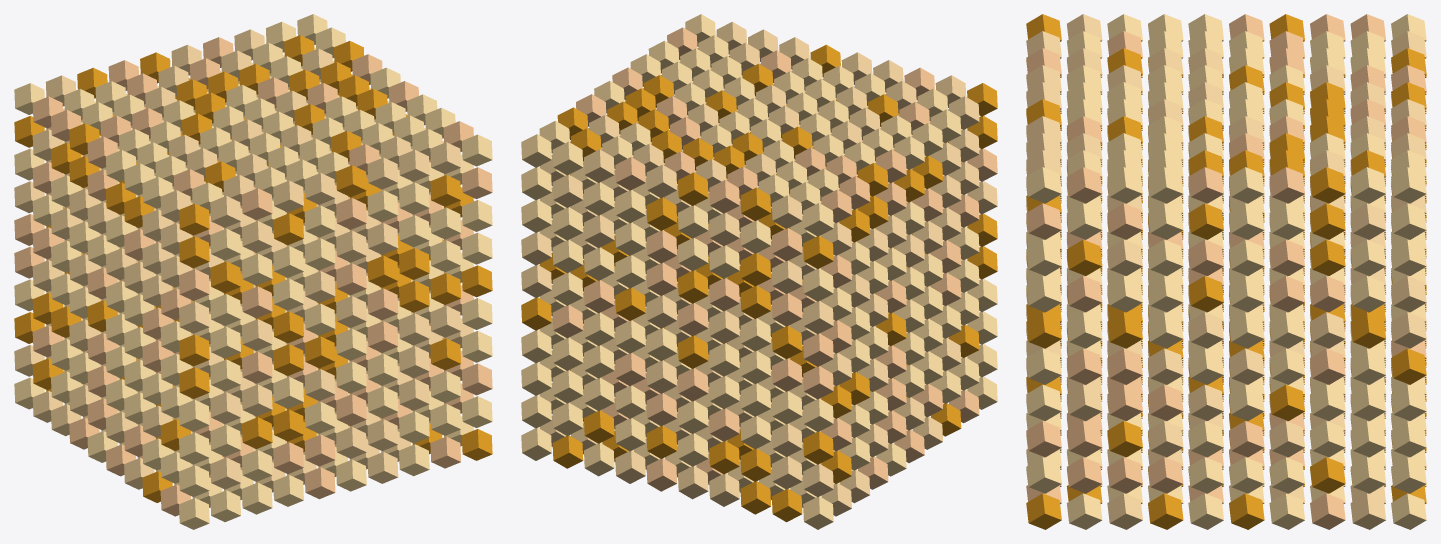
3 renders of one model, left to right at view 1: azimuth 30°, elevation 25°; view 2: azimuth 150°, elevation 25°; view 3: azimuth 270°, elevation 25°, orthographic. The views are drawn at different scales.
Visible parts, largest first — view 1: main_object.999, main_object.506, main_object.507, main_object.005, main_object.006, main_object.008, main_object.009, main_object.003, main_object.102, main_object.105, main_object.607, main_object.002 (+25 smaller); view 2: main_object.999, main_object.094, main_object.390, main_object.095, main_object.799, main_object.995, main_object.798, main_object.191, main_object.291, main_object.290, main_object.898, main_object.994 (+24 smaller); view 3: main_object.999, main_object.949, main_object.958, main_object.941, main_object.994, main_object.931, main_object.951, main_object.984, main_object.985, main_object.995, main_object.942, main_object.948 (+14 smaller).
Boxes of the visible parts, x1=… form: main_object.999: x1=14, y1=14, x2=492, y2=529; main_object.506: x1=336, y1=263, x2=366, y2=295; main_object.507: x1=336, y1=230, x2=366, y2=262; main_object.005: x1=179, y1=334, x2=209, y2=366; main_object.006: x1=179, y1=301, x2=209, y2=333; main_object.008: x1=179, y1=236, x2=209, y2=268; main_object.009: x1=179, y1=203, x2=209, y2=235; main_object.003: x1=179, y1=400, x2=209, y2=431; main_object.102: x1=210, y1=425, x2=240, y2=456; main_object.105: x1=210, y1=326, x2=240, y2=358; main_object.607: x1=367, y1=223, x2=398, y2=254; main_object.002: x1=179, y1=432, x2=209, y2=464; main_object.999: x1=521, y1=14, x2=997, y2=529; main_object.094: x1=803, y1=366, x2=833, y2=399; main_object.390: x1=709, y1=473, x2=739, y2=506; main_object.095: x1=803, y1=333, x2=833, y2=366; main_object.799: x1=584, y1=149, x2=614, y2=182; main_object.995: x1=521, y1=265, x2=551, y2=297; main_object.798: x1=584, y1=182, x2=614, y2=215; main_object.191: x1=771, y1=456, x2=802, y2=489; main_object.291: x1=740, y1=448, x2=770, y2=481; main_object.290: x1=740, y1=481, x2=770, y2=514; main_object.898: x1=552, y1=174, x2=583, y2=207; main_object.994: x1=521, y1=297, x2=551, y2=330; main_object.999: x1=1026, y1=14, x2=1426, y2=529; main_object.949: x1=1188, y1=167, x2=1223, y2=203; main_object.958: x1=1229, y1=203, x2=1264, y2=239; main_object.941: x1=1188, y1=457, x2=1223, y2=493; main_object.994: x1=1391, y1=348, x2=1426, y2=384; main_object.931: x1=1148, y1=457, x2=1183, y2=493; main_object.951: x1=1229, y1=457, x2=1264, y2=493; main_object.984: x1=1350, y1=348, x2=1385, y2=384; main_object.985: x1=1350, y1=312, x2=1386, y2=348; main_object.995: x1=1391, y1=312, x2=1426, y2=348; main_object.942: x1=1188, y1=421, x2=1223, y2=457; main_object.948: x1=1188, y1=203, x2=1223, y2=239.
Bounding box in the file's own units: 19 × 19 × 19.
